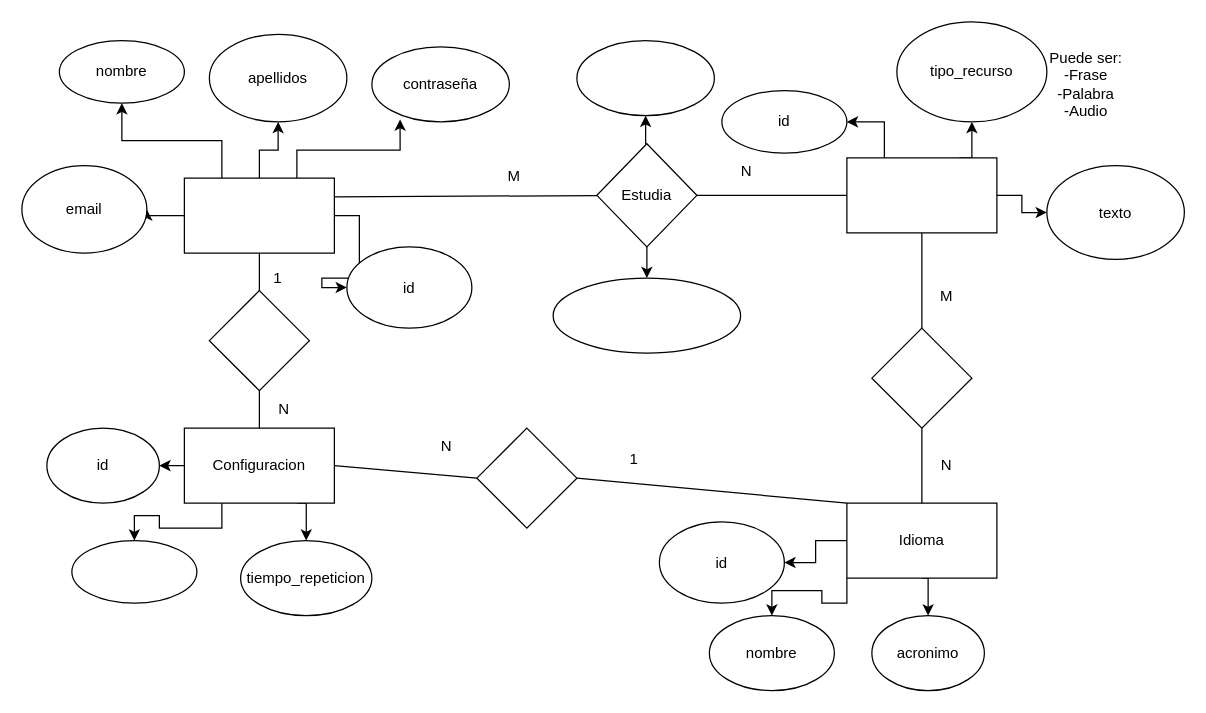
This 1206x713 diagram has some shape labels left out. The centre of each missing label's shape, as x and y in pixels:
"acertado" belongs at point 645,77.
"fecha_ultima_repeticion" belongs at point 646,315.
"Hay" belongs at point 526,477.
"nivel" belongs at point 134,571.
"Recurso" belongs at point 921,195.
"Se traduce" belongs at point 921,377.
"Tiene" belongs at point 258,340.
"Usuario" belongs at point 258,215.
